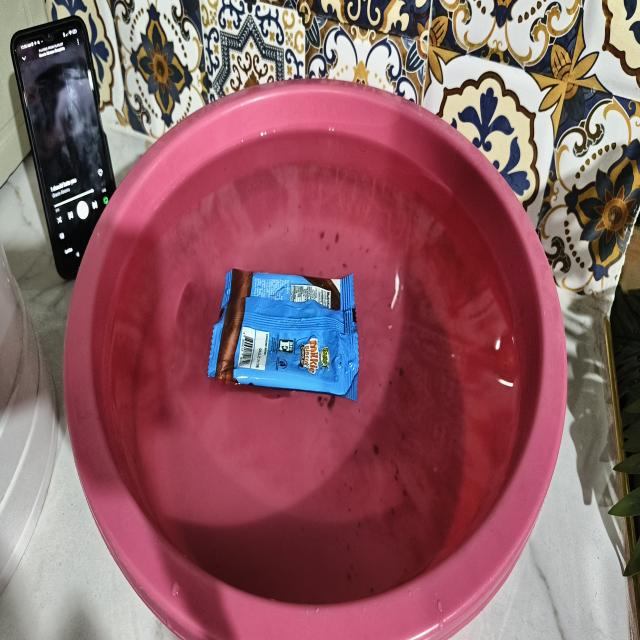Plastic Wrapper: (208, 270, 359, 400)
